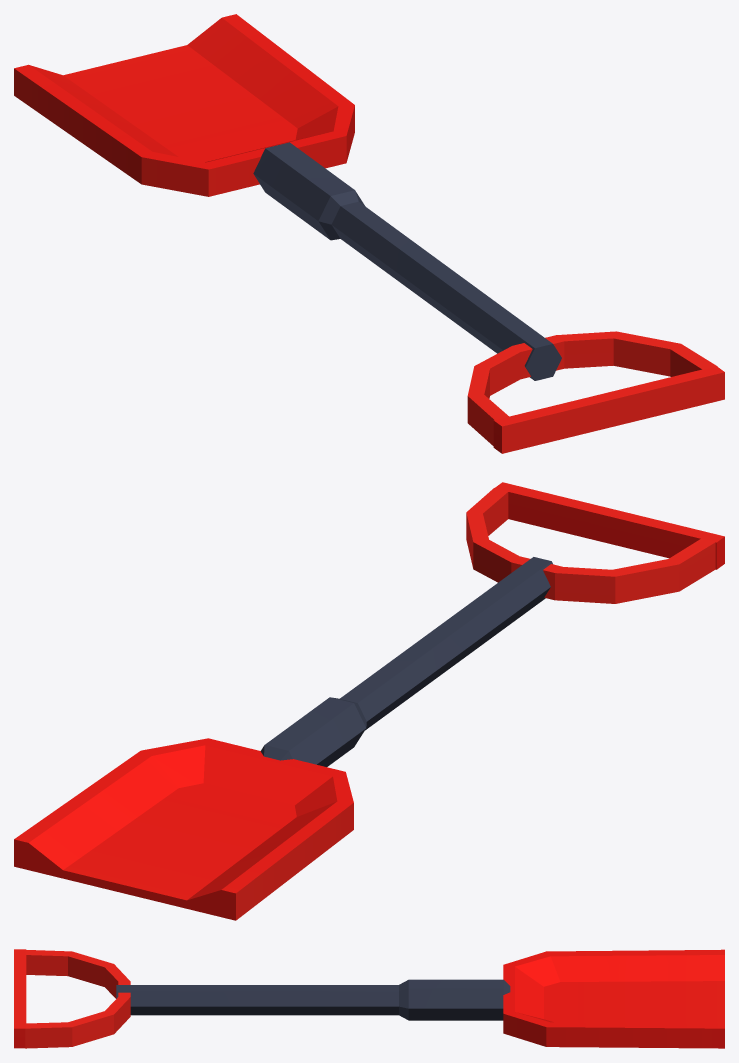
Rendered from SM_Toy_02.fbx.
3 views of the same model, one above another, from view 1: azimuth 30°, elevation 25°; view 2: azimuth 150°, elevation 25°; view 3: azimuth 270°, elevation 25° (orthographic). The views are drawn at different scales.
Visible parts, largest first — view 1: SM_Toy_02; view 2: SM_Toy_02; view 3: SM_Toy_02.
Part boxes in pixels (bbox=[...]): SM_Toy_02: bbox=[14, 14, 724, 453]; SM_Toy_02: bbox=[14, 482, 724, 920]; SM_Toy_02: bbox=[14, 949, 724, 1048].
Bounding box in the file's own units: 11.94 × 2.26 × 45.27.
Materials: 1 (1 with a texture image).
